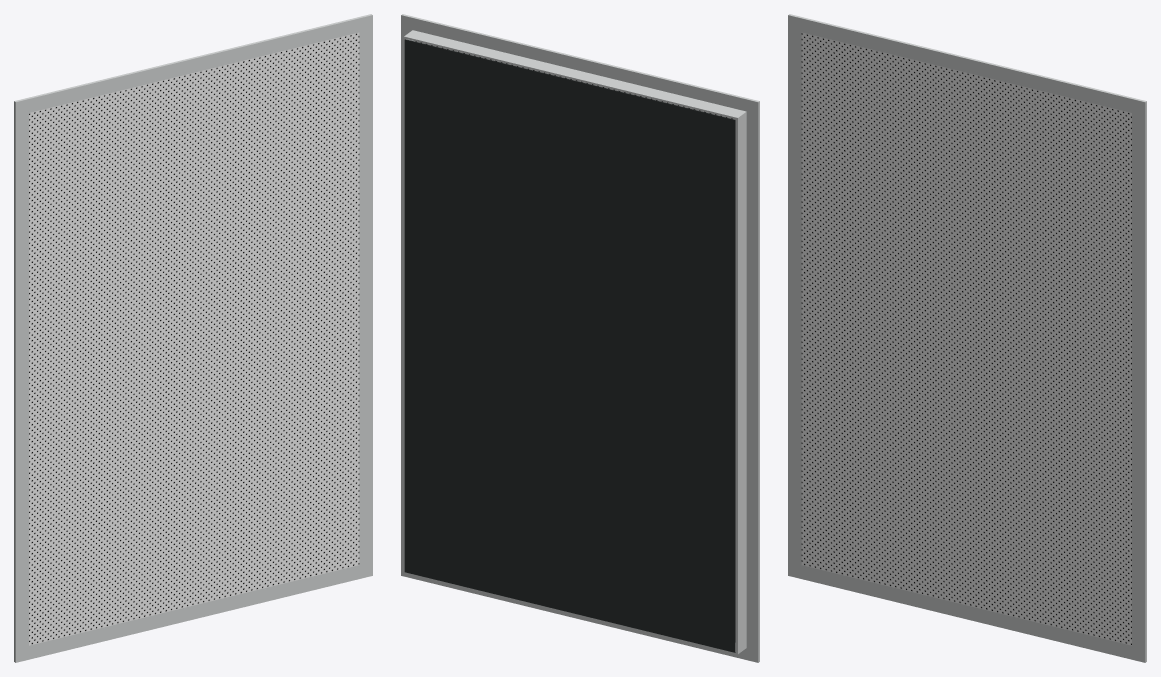
The model's file is ecoclima-egfr-400x600.glb.
3 views of the same model, side by side, from view 1: azimuth 30°, elevation 25°; view 2: azimuth 150°, elevation 25°; view 3: azimuth 330°, elevation 25° (orthographic).
Parts seen in each view (by area): view 1: Profile_lamiera_forata.001, Profile_cornice.115, Profile_cornice.116, Profile_cornice.113, Profile_cornice.114; view 2: Interno.032, Profile_cornice.115, Profile_ritorno.122, Profile_cornice.113, Profile_ritorno.120, Profile_cornice.114, Profile_cornice.116, Profile_lamiera_forata.001, Profile_ritorno.121, Profile_ritorno.123; view 3: Profile_lamiera_forata.001, Profile_cornice.116, Profile_cornice.115, Profile_cornice.113, Profile_cornice.114.
Part boxes in pixels (x1,y1,x2,y2): Profile_lamiera_forata.001: [29, 32, 359, 645]; Profile_cornice.115: [14, 113, 28, 648]; Profile_cornice.116: [359, 29, 372, 564]; Profile_cornice.113: [14, 14, 372, 116]; Profile_cornice.114: [14, 562, 372, 662]; Interno.032: [404, 39, 735, 652]; Profile_cornice.115: [746, 113, 759, 648]; Profile_ritorno.122: [736, 114, 746, 652]; Profile_cornice.113: [401, 14, 759, 116]; Profile_ritorno.120: [404, 30, 746, 119]; Profile_cornice.114: [401, 562, 759, 662]; Profile_cornice.116: [401, 29, 415, 562]; Profile_lamiera_forata.001: [415, 41, 735, 642]; Profile_ritorno.121: [404, 571, 746, 654]; Profile_ritorno.123: [404, 38, 414, 570]; Profile_lamiera_forata.001: [801, 32, 1131, 645]; Profile_cornice.116: [1132, 113, 1146, 648]; Profile_cornice.115: [788, 29, 801, 564]; Profile_cornice.113: [788, 14, 1146, 116]; Profile_cornice.114: [788, 562, 1146, 662].
Size of the model in its own units: 0.4 by 0.6 by 0.022.
Materials: 3 (1 with a texture image).
